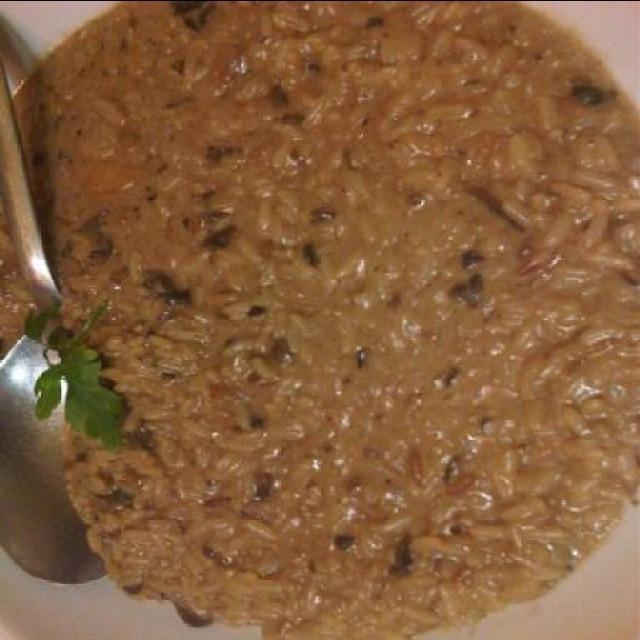Risotto: (92, 4, 623, 624)
